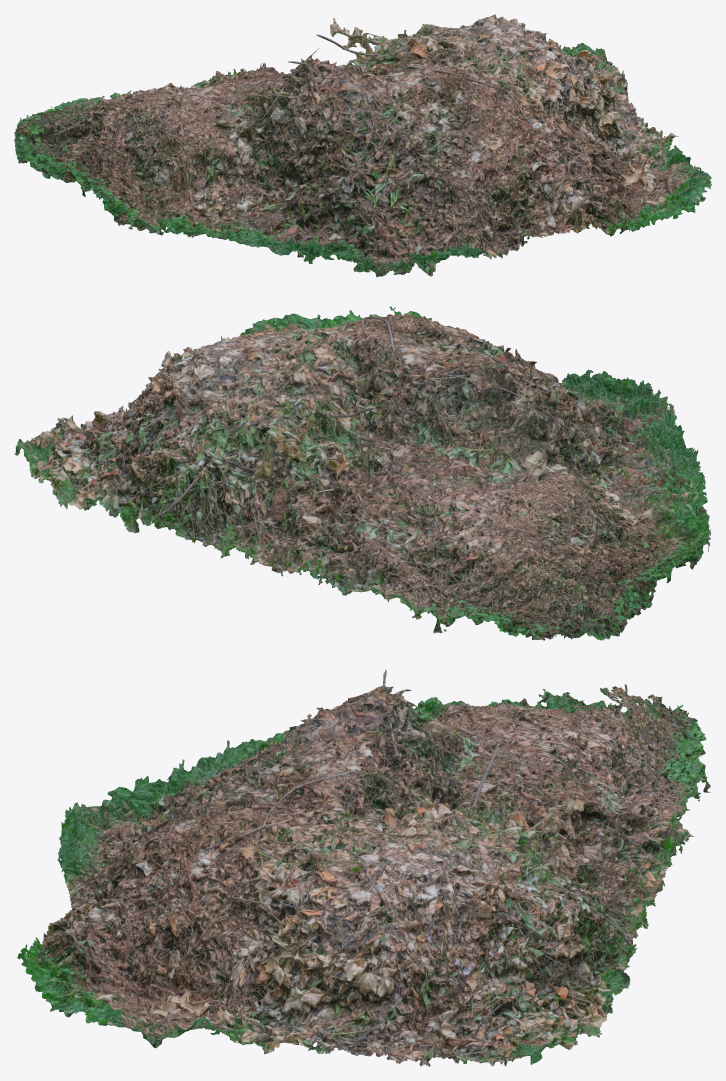
Rendered from sf-cut-branches-and-leaves-heap-31a023.glb.
3 renders of one model, top to bottom at view 1: azimuth 30°, elevation 25°; view 2: azimuth 150°, elevation 25°; view 3: azimuth 270°, elevation 25°, orthographic. The views are drawn at different scales.
Visible parts, largest first — view 1: Model_material0_0, Model_material3_0, Model_material2_0, Model_material1_0; view 2: Model_material2_0, Model_material0_0, Model_material3_0, Model_material1_0; view 3: Model_material1_0, Model_material2_0, Model_material3_0, Model_material0_0.
Part boxes in pixels (left/top/right/bottom): Model_material0_0: left=15, top=14, right=710, bottom=276; Model_material3_0: left=14, top=16, right=711, bottom=275; Model_material2_0: left=14, top=14, right=711, bottom=273; Model_material1_0: left=15, top=16, right=711, bottom=277; Model_material2_0: left=25, top=312, right=709, bottom=639; Model_material0_0: left=22, top=310, right=711, bottom=640; Model_material3_0: left=20, top=311, right=710, bottom=640; Model_material1_0: left=14, top=306, right=710, bottom=639; Model_material1_0: left=21, top=684, right=710, bottom=1064; Model_material2_0: left=21, top=674, right=710, bottom=1066; Model_material3_0: left=16, top=669, right=707, bottom=1065; Model_material0_0: left=18, top=672, right=707, bottom=1066.
Size of the model in its own units: 3.34 by 0.7826 by 2.8.
Materials: 4 (4 with a texture image).
